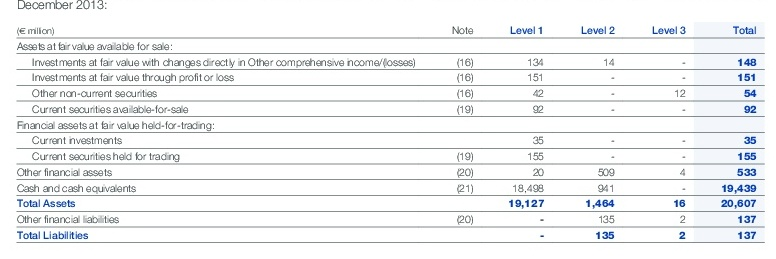table: (0, 0, 776, 259)
